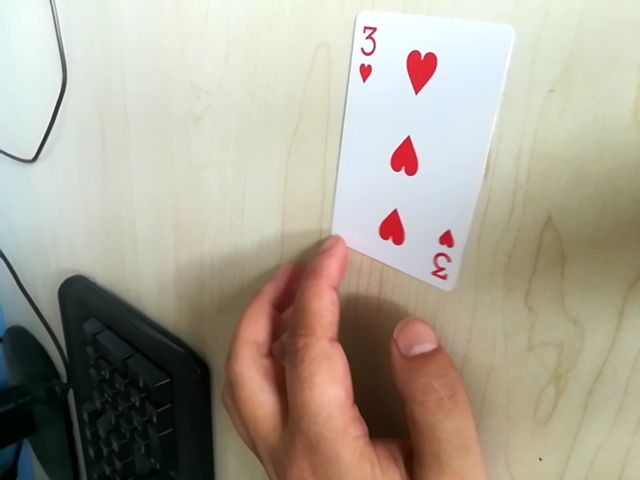hx 3: (423, 233, 460, 291), (349, 17, 381, 84)
